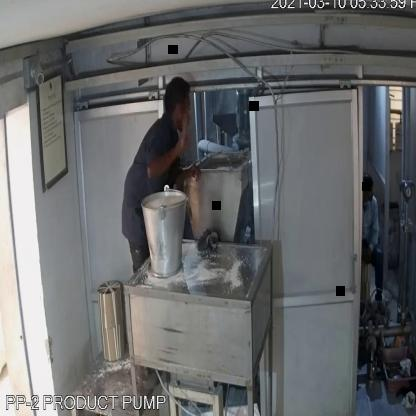no_glove: (135, 121, 201, 198)
